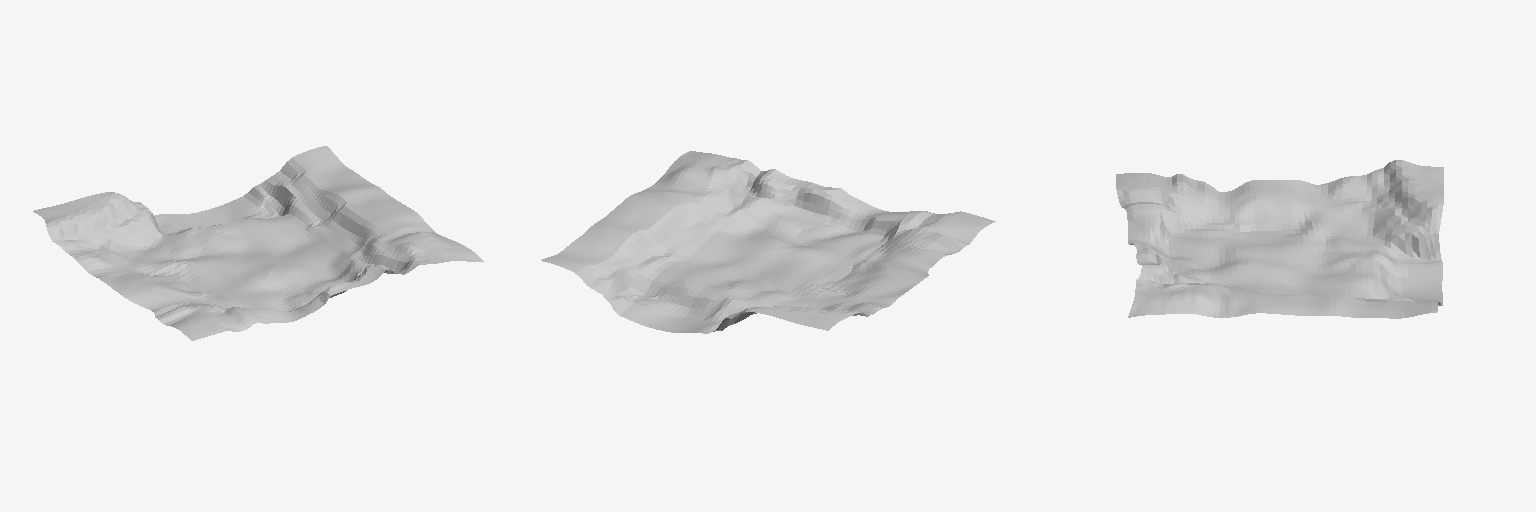
The model's file is woodland_track_03.obj.
The picture shows the model from 3 angles: view 1: azimuth 30°, elevation 25°; view 2: azimuth 150°, elevation 25°; view 3: azimuth 270°, elevation 25°; orthographic projection.
Parts seen in each view (by area): view 1: Plane; view 2: Plane; view 3: Plane.
Part boxes in pixels (x1,y1,x2,y2): Plane: (33, 146, 483, 340); Plane: (541, 151, 995, 333); Plane: (1116, 160, 1443, 318).
Size of the model in its own units: 339 by 50.38 by 316.